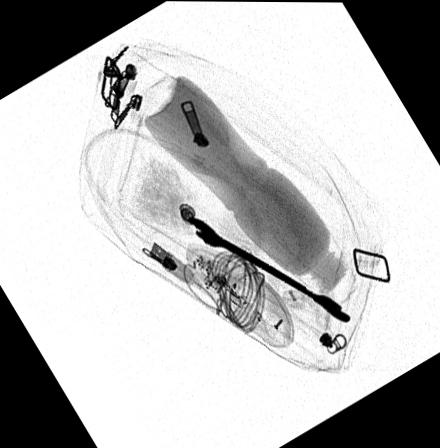Wrench: (182, 214, 354, 326)
